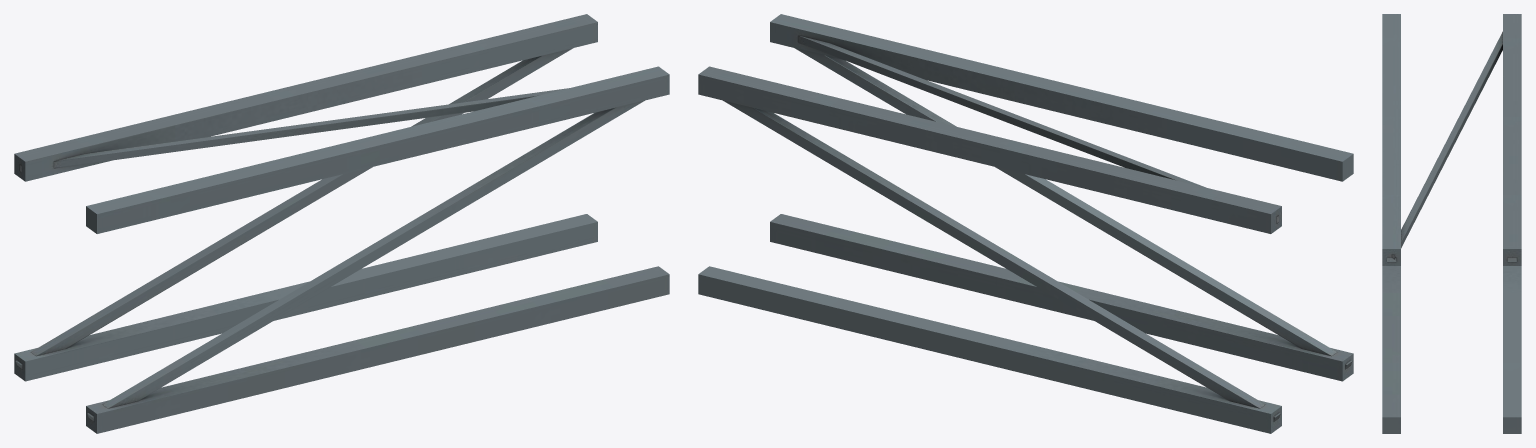
The model's file is roof_truss_lod.glb.
The picture shows the model from 3 angles, left to right: view 1: azimuth 30°, elevation 25°; view 2: azimuth 150°, elevation 25°; view 3: azimuth 270°, elevation 25°; orthographic projection. The views are drawn at different scales.
Visible parts, largest first — view 1: body; view 2: body; view 3: body.
Part boxes in pixels (left/top/right/bottom): body: left=14, top=14, right=669, bottom=433; body: left=698, top=14, right=1353, bottom=433; body: left=1382, top=14, right=1521, bottom=433.
Size of the model in its own units: 6.03 by 2.2 by 1.5.
Materials: 1 (1 with a texture image).
